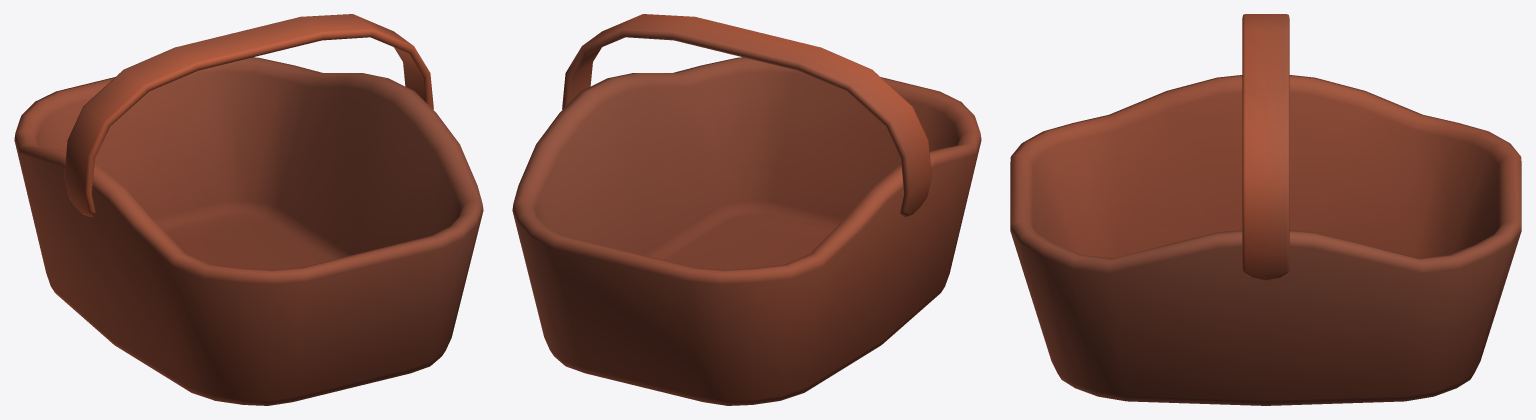
File: basket_brown_smile.fbx
3 views of the same model, side by side, from view 1: azimuth 30°, elevation 25°; view 2: azimuth 150°, elevation 25°; view 3: azimuth 270°, elevation 25° (orthographic).
Parts seen in each view (by area): view 1: basket_brown_smile; view 2: basket_brown_smile; view 3: basket_brown_smile.
Part boxes in pixels (x1,y1,x2,y2): basket_brown_smile: (14,14,483,405); basket_brown_smile: (512,14,981,405); basket_brown_smile: (1010,14,1521,405).
Size of the model in its own units: 87.86 by 109 by 66.41.
Materials: 1 (1 with a texture image).
